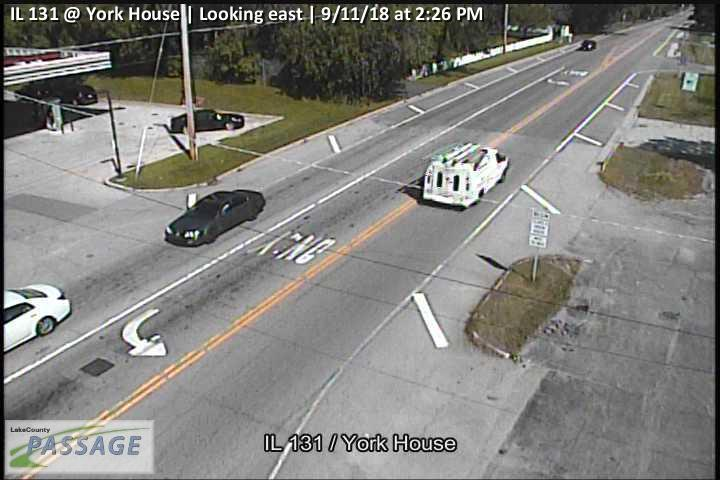Sedan: (164, 188, 265, 250), (170, 108, 246, 132)
Truck: (422, 140, 509, 208)
